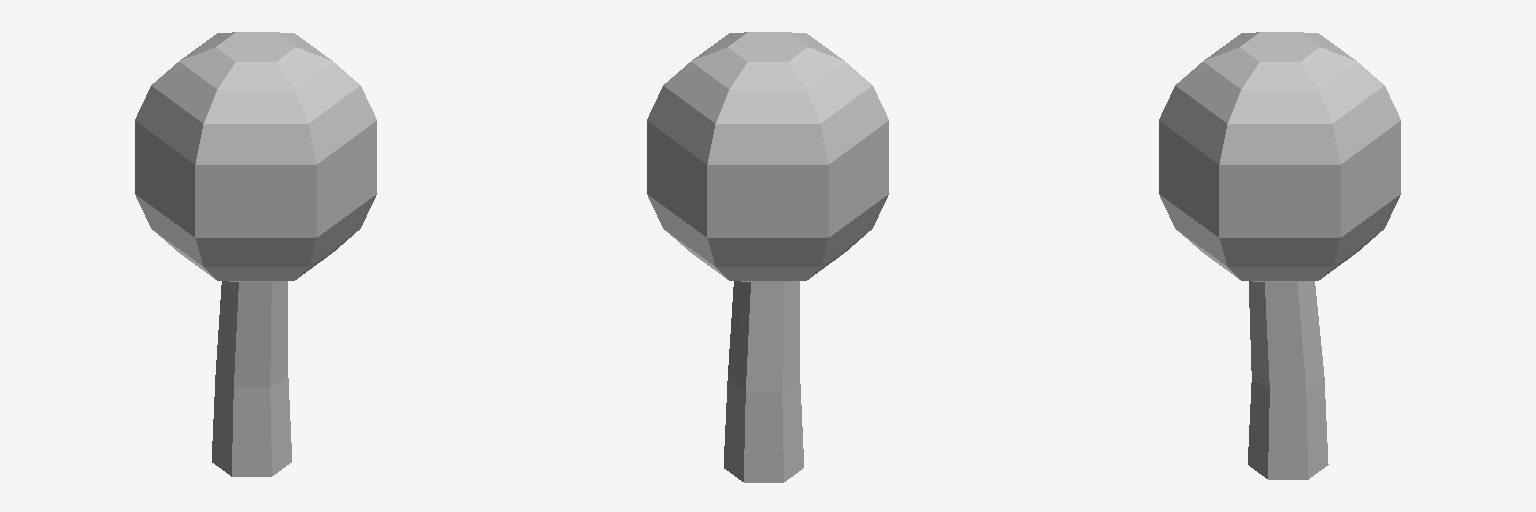
Rendered from Prop_Tree_Oak_3.obj.
3 renders of one model, left to right at view 1: azimuth 30°, elevation 25°; view 2: azimuth 150°, elevation 25°; view 3: azimuth 270°, elevation 25°, orthographic.
Visible parts, largest first — view 1: object2, object1; view 2: object2, object1; view 3: object2, object1.
Boxes of the visible parts, x1=… form: object2: x1=135, y1=32, x2=376, y2=281; object1: x1=212, y1=281, x2=291, y2=476; object2: x1=647, y1=32, x2=888, y2=281; object1: x1=724, y1=281, x2=803, y2=482; object2: x1=1159, y1=32, x2=1400, y2=281; object1: x1=1248, y1=281, x2=1328, y2=479.
Bounding box in the file's own units: 1.3 × 2.85 × 1.5.